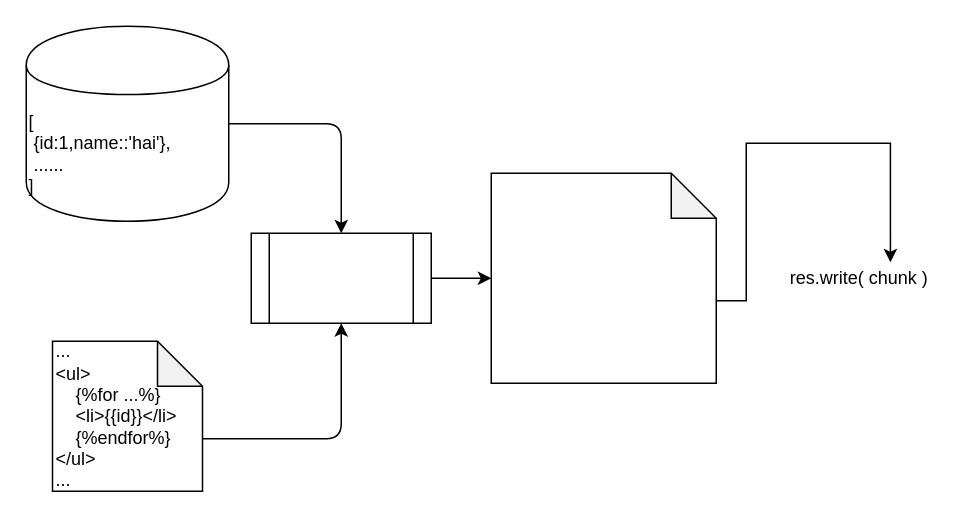
Some shapes in this 968 by 518 pixel diagram are drawn without their labels. The shapes that lost their labels are listed below. From the top down, each one's centre as x and y in pixels, then its label:
At (x=340, y=277): "模板引擎".
At (x=603, y=277): "... <ul> <li>1</li> <li>2</li> .... </ul> ...".
